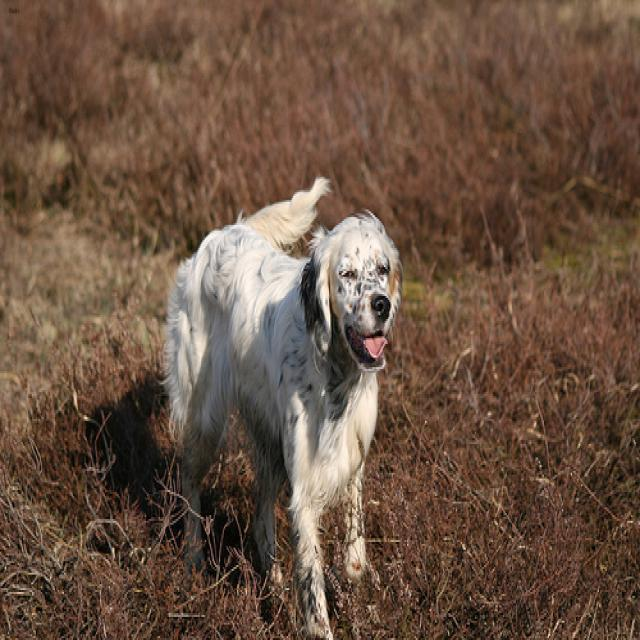dog-english_setter: (157, 165, 407, 636)
